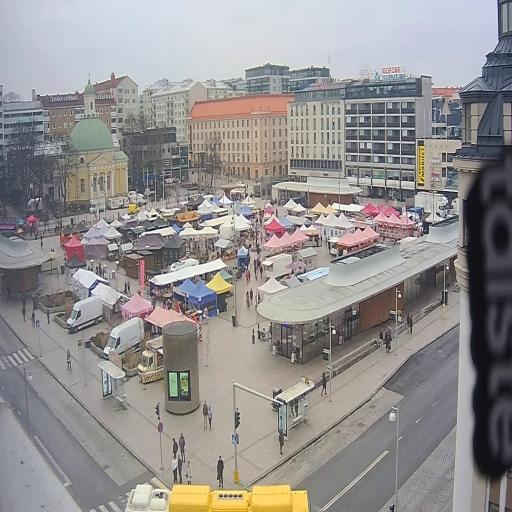bus: (125, 484, 309, 512)
delivery: (104, 317, 144, 359), (67, 296, 103, 332), (138, 336, 163, 384), (415, 191, 450, 218)
